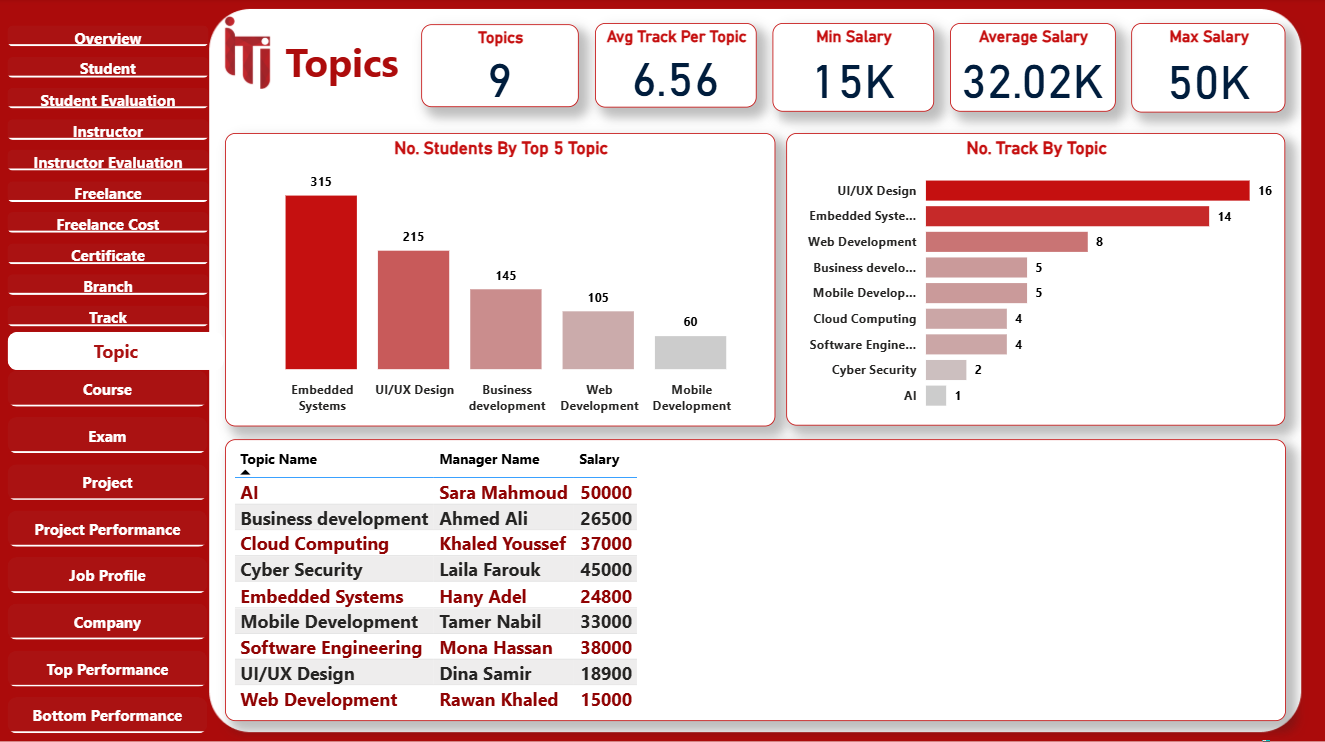

This screenshot's page, from the dashboard's own definition file:
{"tool":"powerbi","page":{"name":"Topic","canvas":[1280,720],"ordinal":10},"visuals":[{"type":"columnChart","title":"No. Students By Top 5 Topic","fields":{"Category":["vw_Dim_Topic.Topic_Name"],"Y":["Count(Fact_Student_Performance.st_id)"]},"box":[216.8,130.1,531.1,283.2],"z":0},{"type":"barChart","title":"No. Track By Topic","fields":{"Category":["vw_Dim_Topic.Topic_Name"],"Y":["Count(Fact_Student_Performance.track_id)"]},"box":[758.8,130.4,481.6,282.7],"z":1000},{"type":"tableEx","fields":{"Values":["vw_Dim_Topic.Topic_Name","vw_Dim_Topic.Manager_Name","vw_Dim_Topic.Salary"]},"box":[216.8,425.4,1023.7,271.7],"z":2000},{"type":"card","title":"Topics","fields":{"Values":["Measures_.Total Topics"]},"box":[406.4,25.7,151.7,79.9],"z":3000},{"type":"card","title":"Avg Track Per Topic","fields":{"Values":["Measures_.Avg Tracks per Topic"]},"box":[573.8,24.4,155.8,81.3],"z":4000},{"type":"card","title":"Max Salary","fields":{"Values":["Max(vw_Dim_Topic.Salary)"]},"box":[1092,24.4,149,86.7],"z":5000},{"type":"card","title":"Min Salary","fields":{"Values":["Min(vw_Dim_Topic.Salary)"]},"box":[745.1,24.4,155.8,85.4],"z":6000},{"type":"card","title":"Average Salary","fields":{"Values":["Avg(vw_Dim_Topic.Salary)"]},"box":[916.5,24.4,159.9,85.4],"z":7000},{"type":"textbox","box":[270.3,31.6,163.3,61.7],"z":8000},{"type":"pageNavigator","box":[6.9,26.1,194.9,296.4],"z":9000},{"type":"pageNavigator","box":[6.9,322.5,209.9,37],"z":10000},{"type":"pageNavigator","box":[6.9,359.5,193.5,351.3],"z":11000},{"type":"image","box":[196.2,4.1,86.4,89.2],"z":12000}]}

Visuals, with their boxes in screenshot pixels (x1, y1, x2, y2), scaled from the page's 1280x720 canvas onto the 1325x742 screenshot:
"No. Students By Top 5 Topic" columnChart: crop(224, 134, 774, 426)
"No. Track By Topic" barChart: crop(785, 134, 1284, 426)
tableEx - vw_Dim_Topic.Topic_Name x vw_Dim_Topic.Manager_Name: crop(224, 438, 1284, 718)
"Topics" card: crop(421, 26, 578, 109)
"Avg Track Per Topic" card: crop(594, 25, 755, 109)
"Max Salary" card: crop(1130, 25, 1285, 114)
"Min Salary" card: crop(771, 25, 933, 113)
"Average Salary" card: crop(949, 25, 1114, 113)
textbox: crop(280, 33, 449, 96)
pageNavigator: crop(7, 27, 209, 332)
pageNavigator: crop(7, 332, 224, 370)
pageNavigator: crop(7, 370, 207, 733)
image: crop(203, 4, 293, 96)
